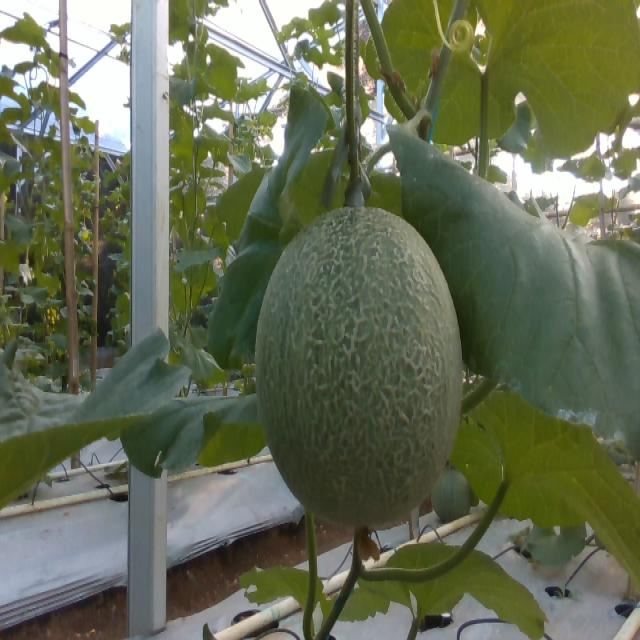melon: (258, 208, 462, 527)
